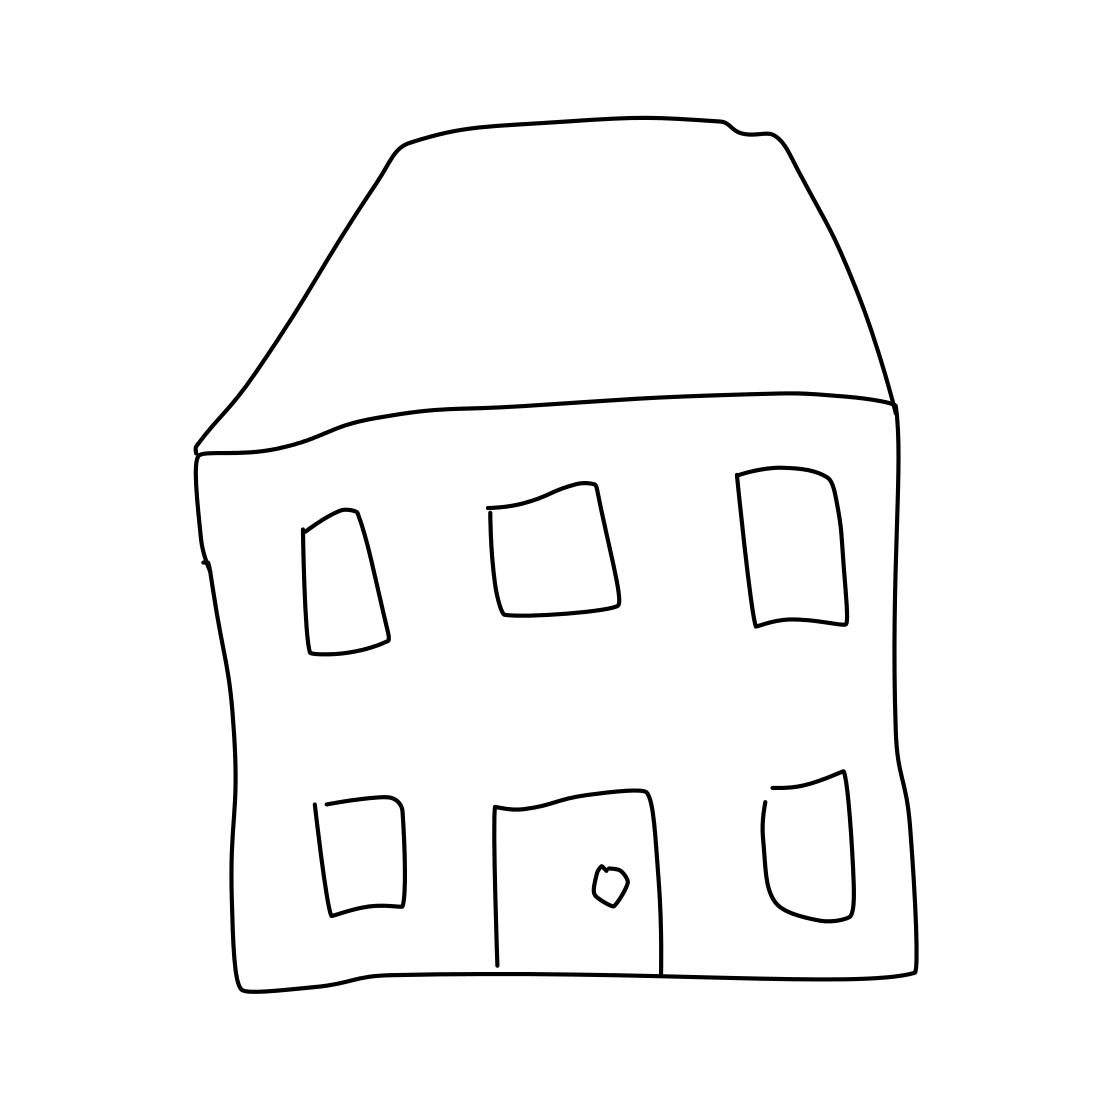House: (118, 109, 967, 1002)
